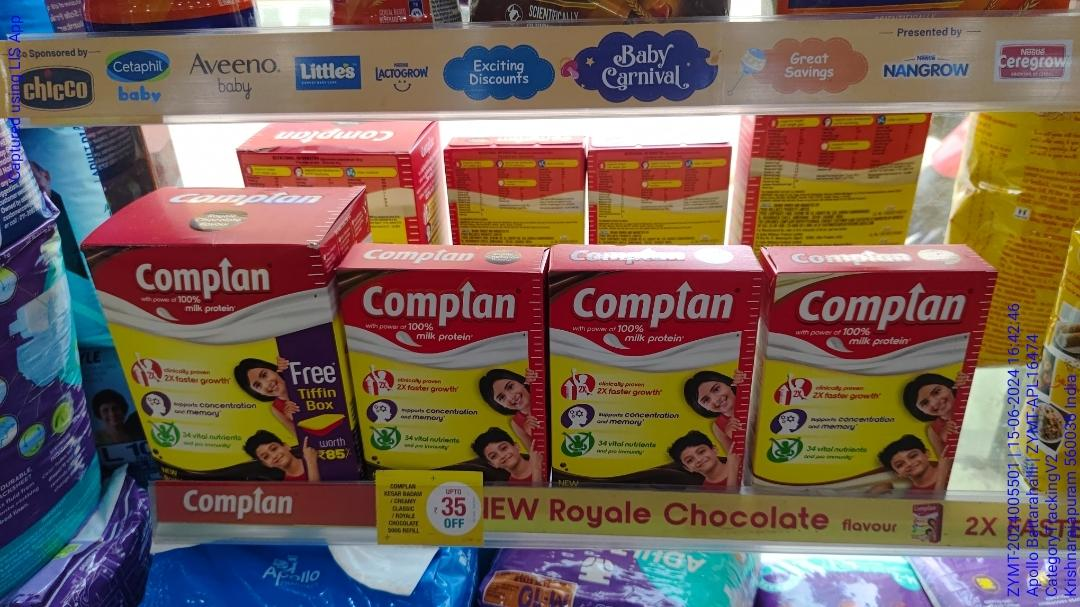COMPLAN_PISTA_BADAM_500_GMS_PACK: (764, 268, 961, 498)
